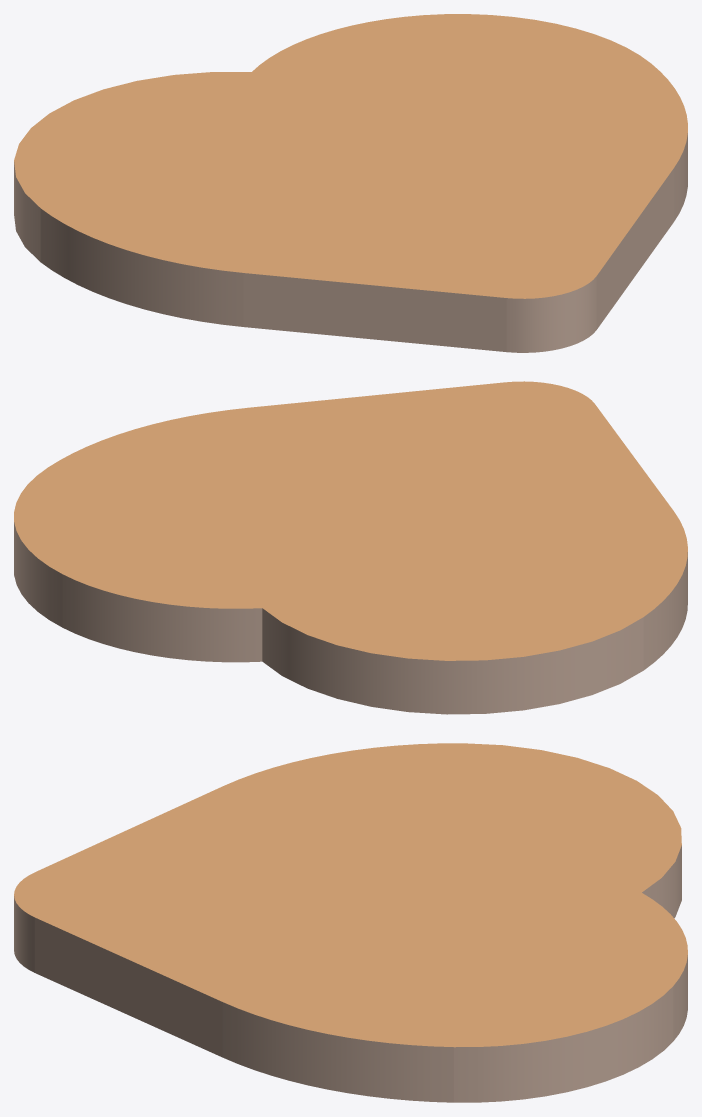
Rendered from HearthBlender.obj.
3 views of the same model, one above another, from view 1: azimuth 30°, elevation 25°; view 2: azimuth 150°, elevation 25°; view 3: azimuth 270°, elevation 25° (orthographic). The views are drawn at different scales.
Visible parts, largest first — view 1: Mesh1 Model; view 2: Mesh1 Model; view 3: Mesh1 Model.
Boxes of the visible parts, x1,y1,x2,y2 form: Mesh1 Model: [14, 14, 687, 352]; Mesh1 Model: [14, 381, 687, 714]; Mesh1 Model: [14, 743, 687, 1102].
Bounding box in the file's own units: 4.57 × 0.39 × 4.29.
